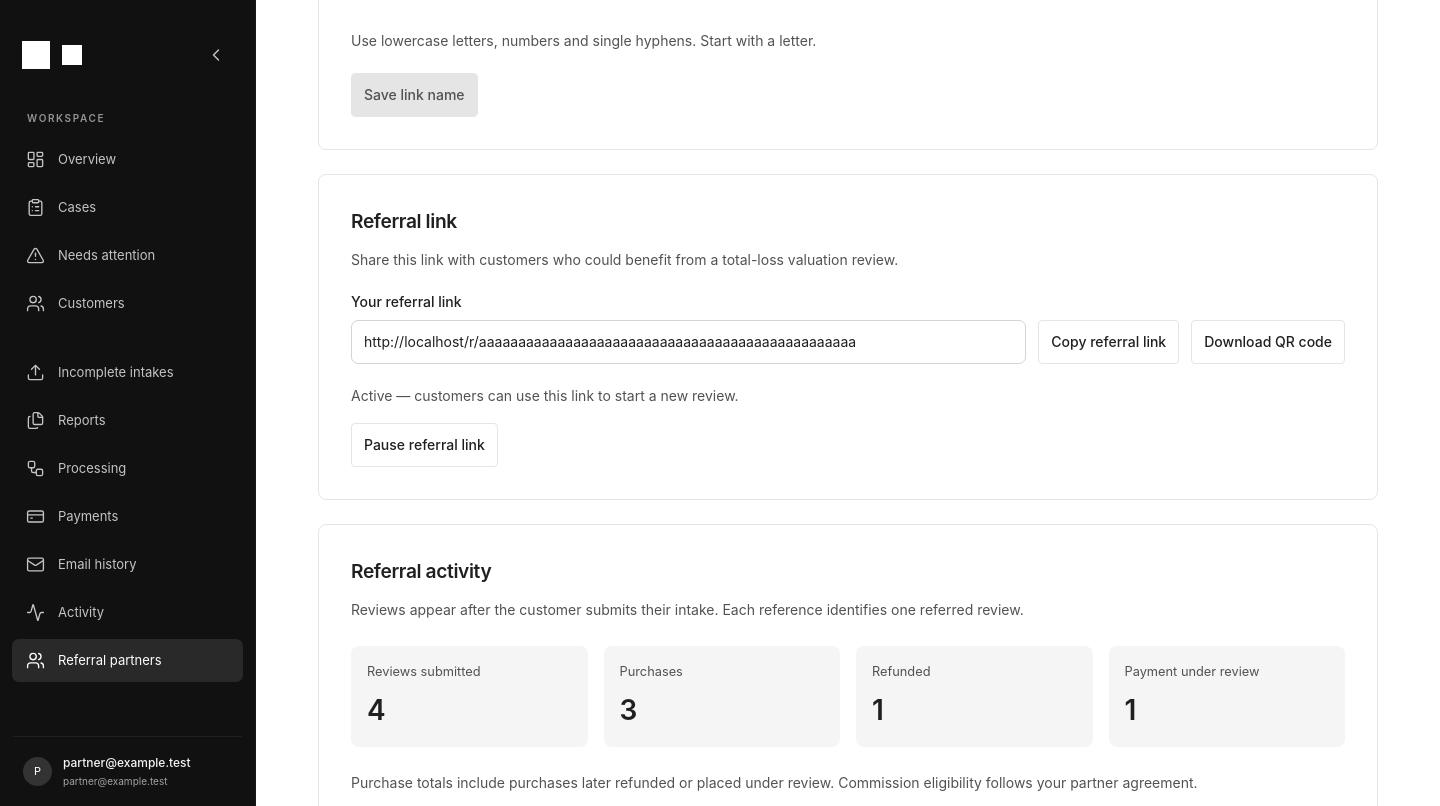
partner referral dashboards › allows a manager to pause and resume the same link with current revision
The width and height of the screenshot is (1440, 806).
(page scrolled)
Click the button "Pause referral link" at (424, 445), box [351,423,498,467]
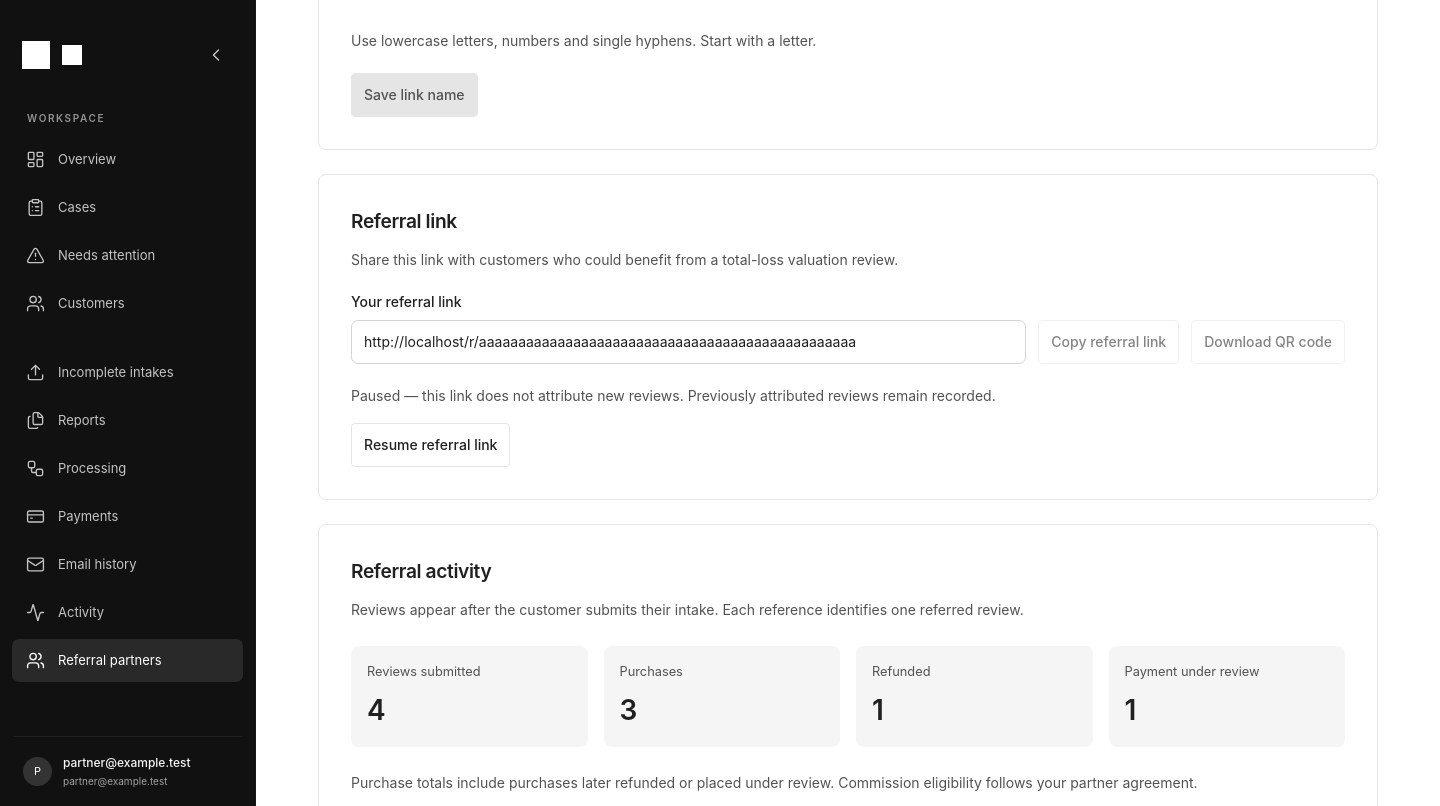
Check: the button "Copy referral link" is disabled, box [1038,320,1179,364]
Check: the button "Download QR code" is disabled, box [1191,320,1345,364]
Click the button "Resume referral link" at (431, 445), box [351,423,510,467]
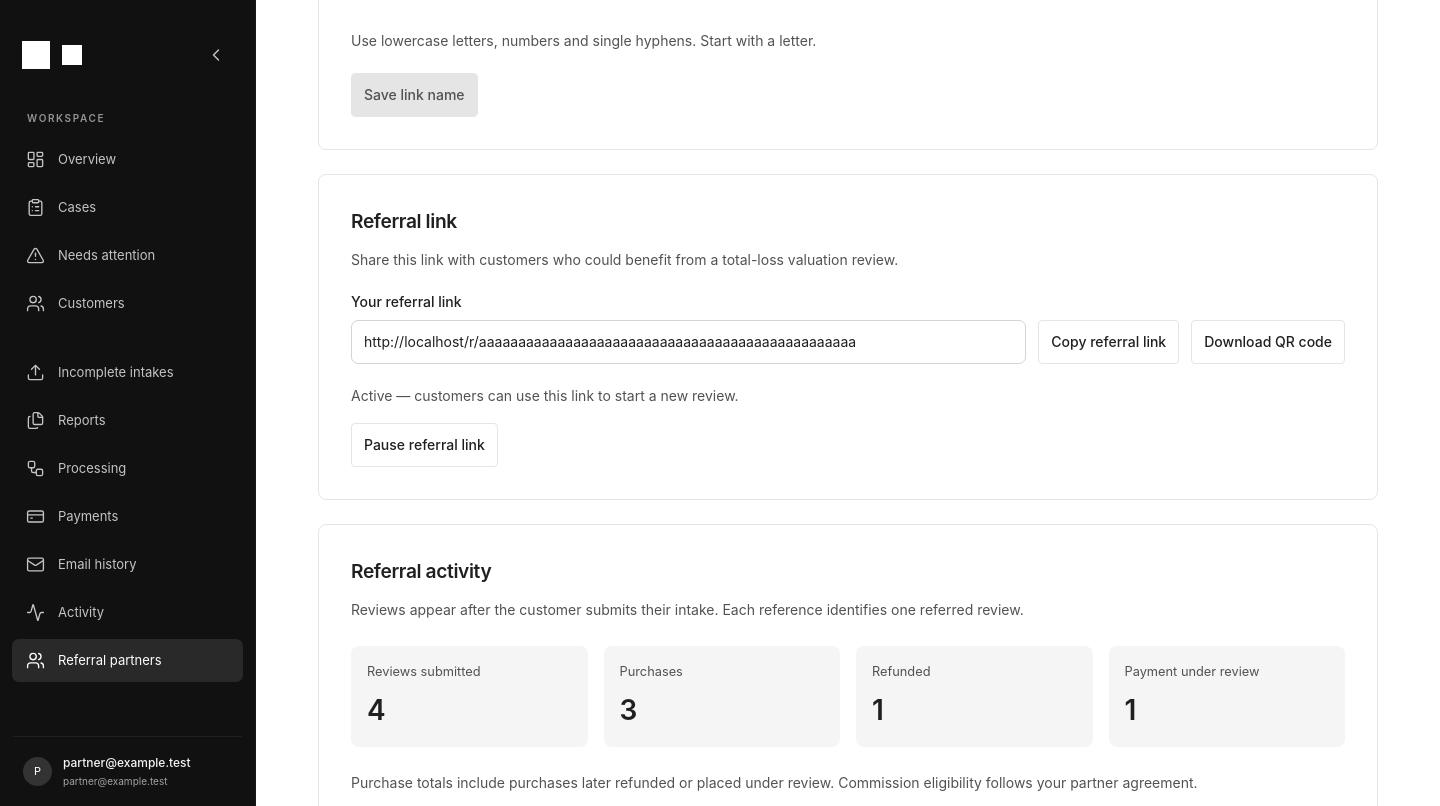
Check: the button "Pause referral link" is enabled, box [351,423,498,467]
Check: the button "Copy referral link" is enabled, box [1038,320,1179,364]
